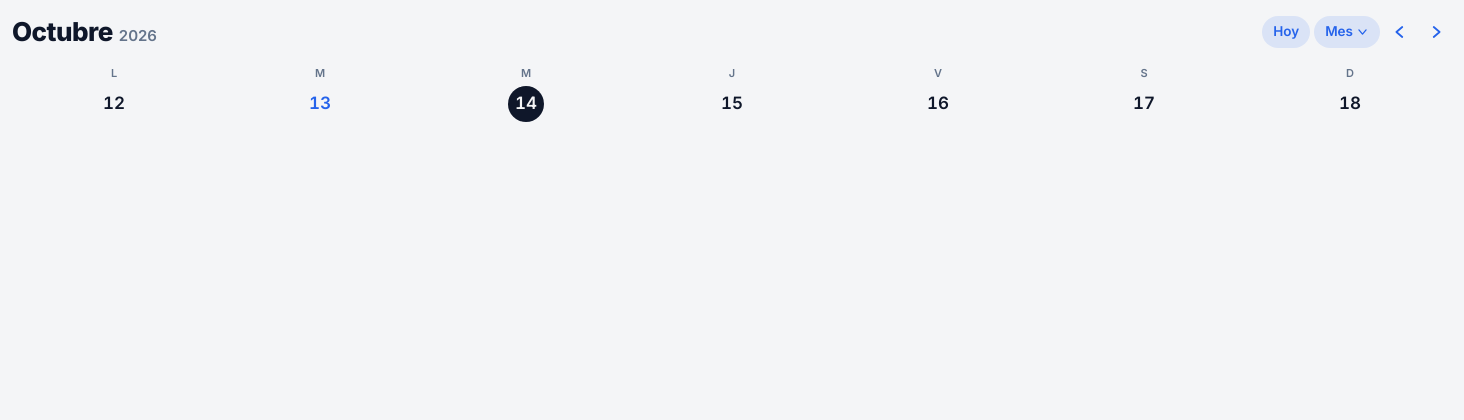
Test: MonthPane en el teléfono › "Mes" despliega la grilla y elegir un día vuelve a la tira
The width and height of the screenshot is (1464, 420).
What coordinates should you click on to do the following:
click the button "Mes"
I would click on:
 (1347, 32)
Its box is [1314, 16, 1380, 48].
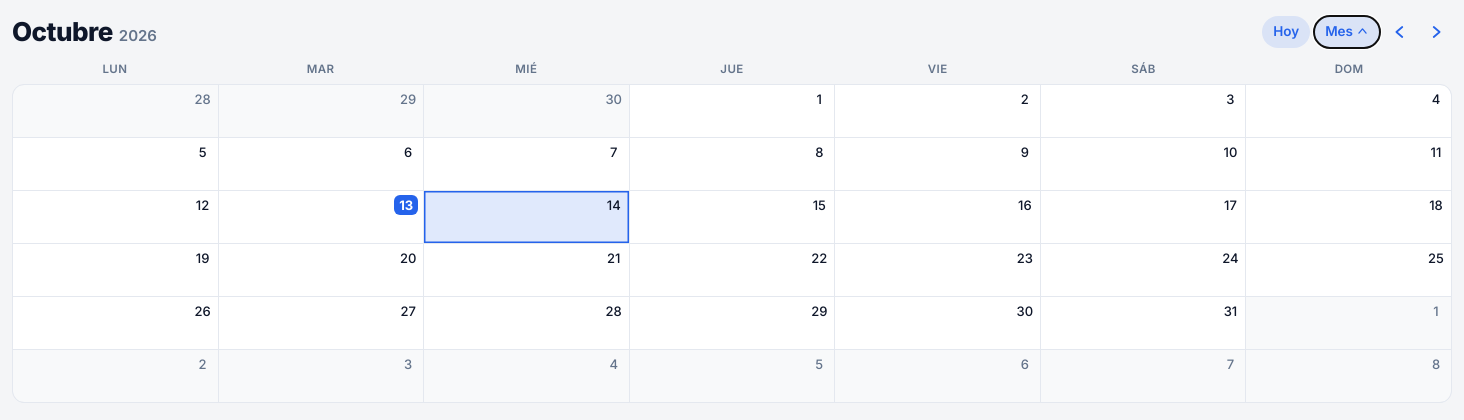
What coordinates should you click on to do the following:
click the button named "Viernes, 23 de octubre"
I would click on:
 (938, 270)
Its box is [835, 244, 1040, 296].
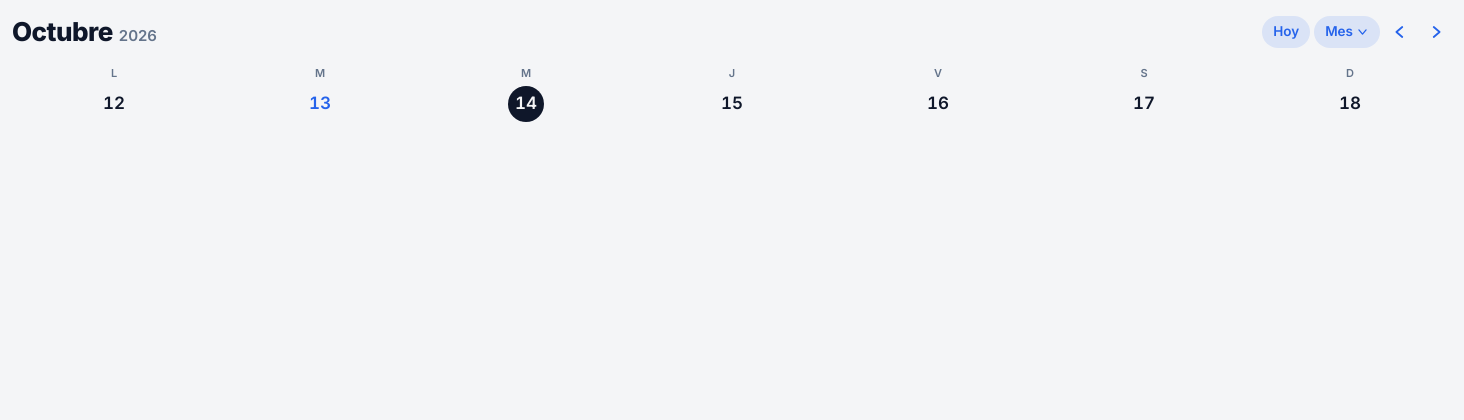
Expected: the element named "Días de la semana" is shown, [12, 61, 1452, 132]
